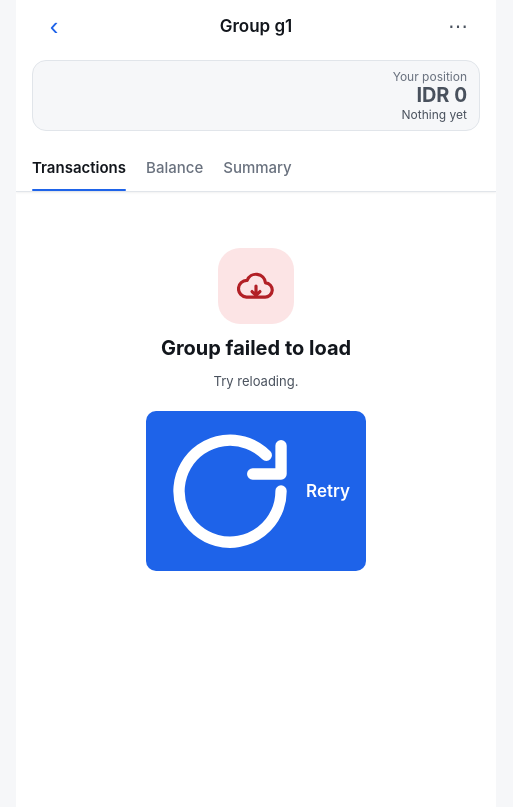
GroupDetailScreen › renders a full-screen load failure and can retry
This screenshot has width=513, height=807.
Check: the heading "Group failed to load" is shown, box [161,336,351,360]
Click the button "Retry": point(256, 491) [146,411,366,571]
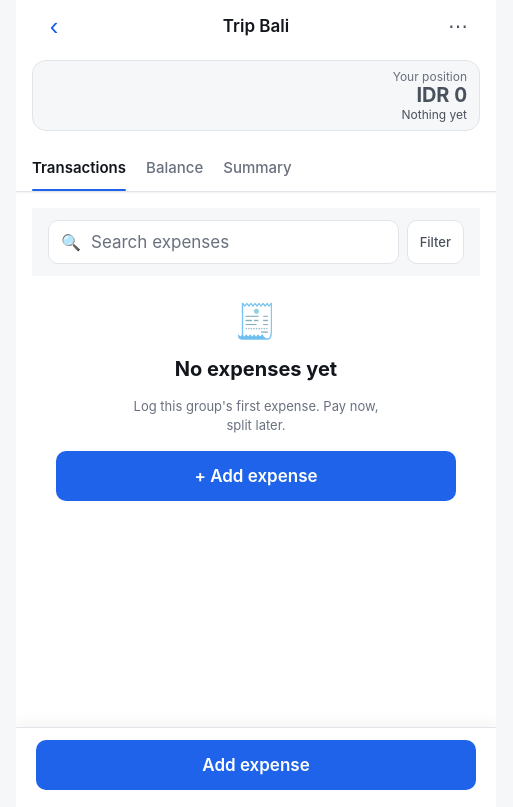
Check: the heading "Trip Bali" is shown, box [223,16,289,36]
